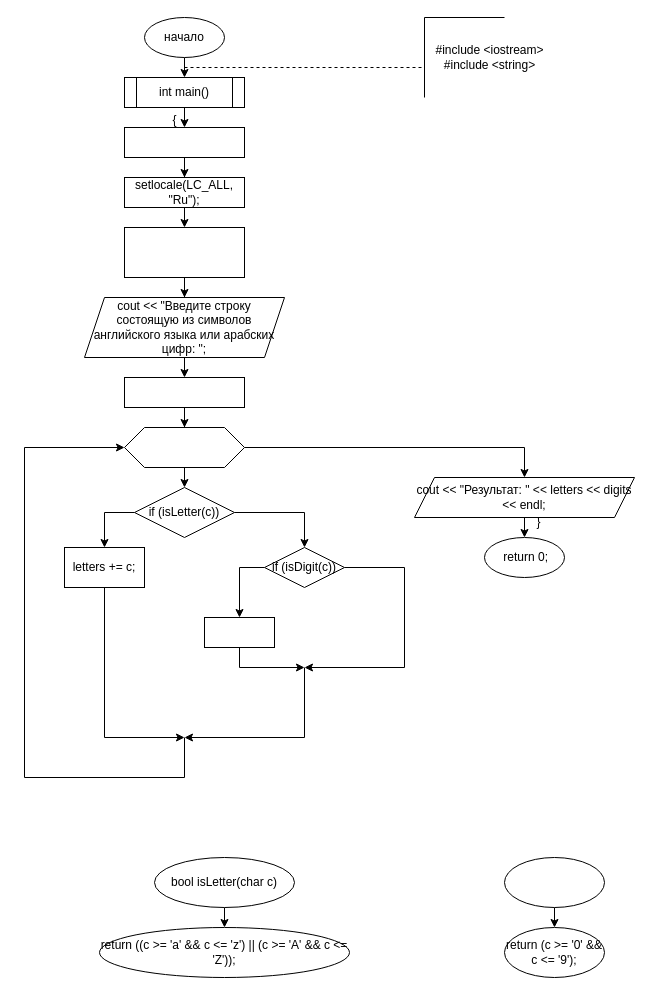
Image size: 652x995. Some labels were removed from this diagram. Here are the shapes that lost their labels. From the top down, the centre of each, then its label:
the point at 184,142: using namespace std;
the point at 184,252: string str; string letters; string digits;
the point at 184,392: getline(cin, str);
the point at 184,447: for (char c : str)
the point at 239,632: digits += c;
the point at 554,882: bool isDigit(char c)
